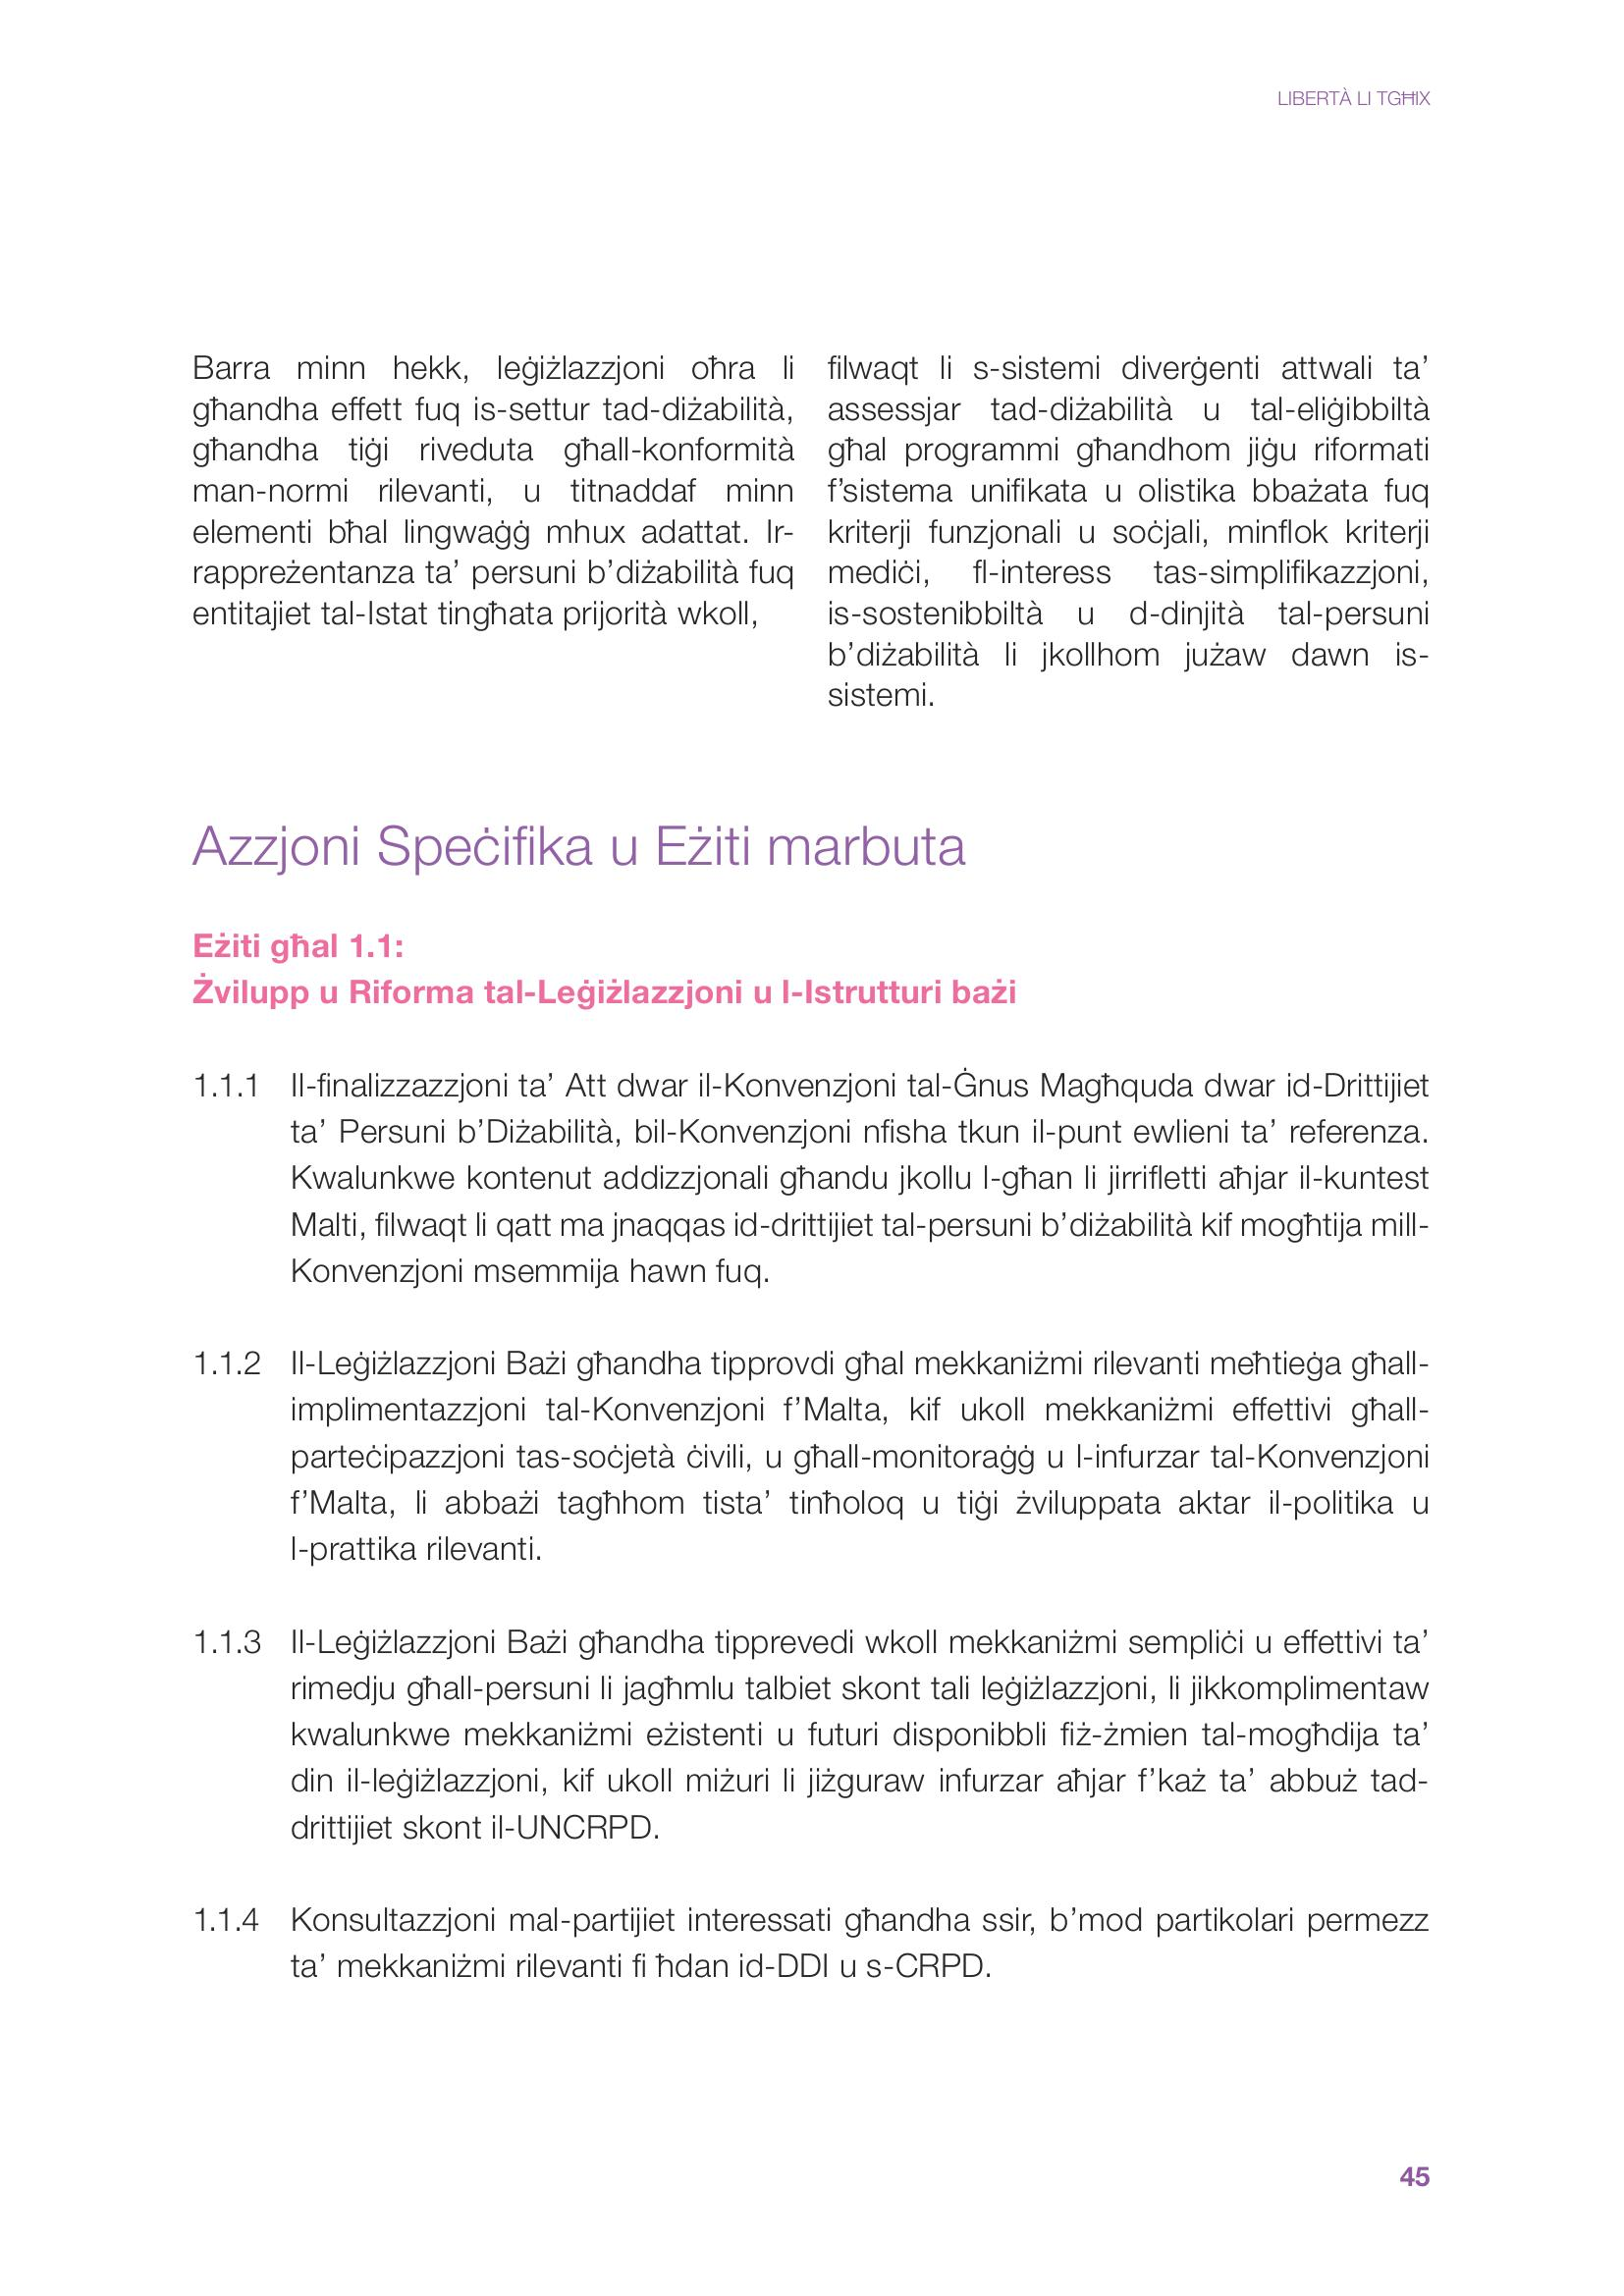text: (139, 803, 1476, 2013), (810, 339, 1450, 748), (172, 336, 814, 668)
